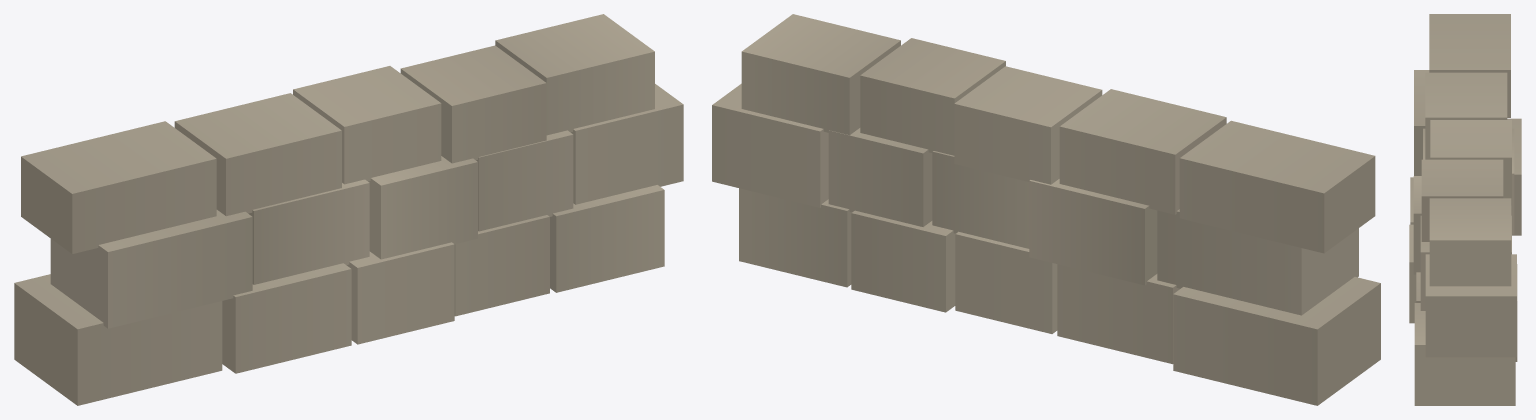
Rendered from wall_1.glb.
The picture shows the model from 3 angles, left to right: view 1: azimuth 30°, elevation 25°; view 2: azimuth 150°, elevation 25°; view 3: azimuth 270°, elevation 25°; orthographic projection. The views are drawn at different scales.
Parts seen in each view (by area): view 1: wall_1; view 2: wall_1; view 3: wall_1.
Part boxes in pixels (left/top/right/bottom): wall_1: left=14, top=14, right=683, bottom=405; wall_1: left=712, top=14, right=1380, bottom=405; wall_1: left=1409, top=14, right=1521, bottom=405.
Bounding box in the file's own units: 2.33 × 0.76 × 0.4673.
